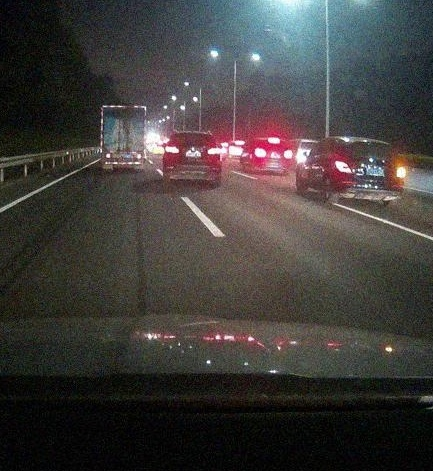L_light: (334, 160, 354, 174), (163, 145, 180, 154), (253, 149, 266, 157), (104, 154, 111, 158)
R_light: (394, 165, 406, 179), (206, 146, 221, 155), (282, 150, 293, 158), (135, 154, 143, 158)
T_light: (363, 141, 380, 147), (268, 139, 280, 144), (188, 133, 200, 136), (120, 108, 129, 111)
day-no: (100, 105, 146, 172)
night-brake: (252, 137, 293, 173)
night-no: (162, 131, 222, 186)
night-right: (332, 137, 406, 204)
